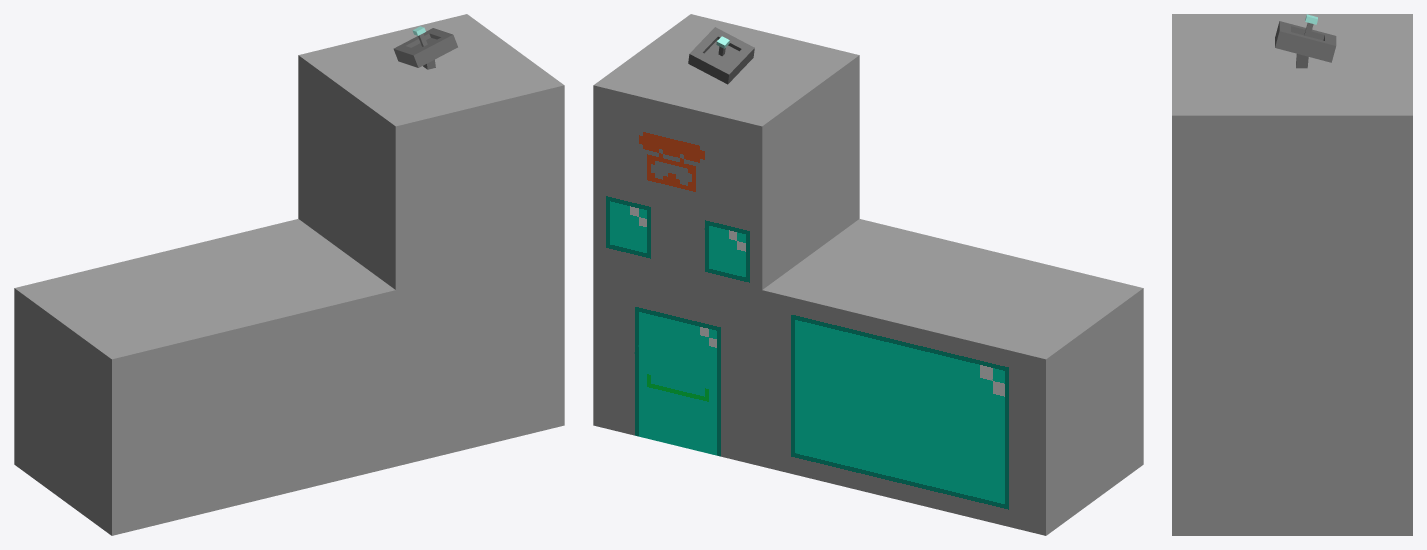
File: Itch.gltf
The picture shows the model from 3 angles, left to right: view 1: azimuth 30°, elevation 25°; view 2: azimuth 150°, elevation 25°; view 3: azimuth 270°, elevation 25°; orthographic projection. The views are drawn at different scales.
Visible parts, largest first — view 1: cube (×3); view 2: cube (×3); view 3: cube (×3).
Boxes of the visible parts, x1,y1,x2,y2 form: cube (×3): (14,14,564,535); cube (×3): (593,14,1143,535); cube (×3): (1172,14,1412,535).
Size of the model in its own units: 6.88 by 5.5 by 2.56.
Materials: 1 (1 with a texture image).
